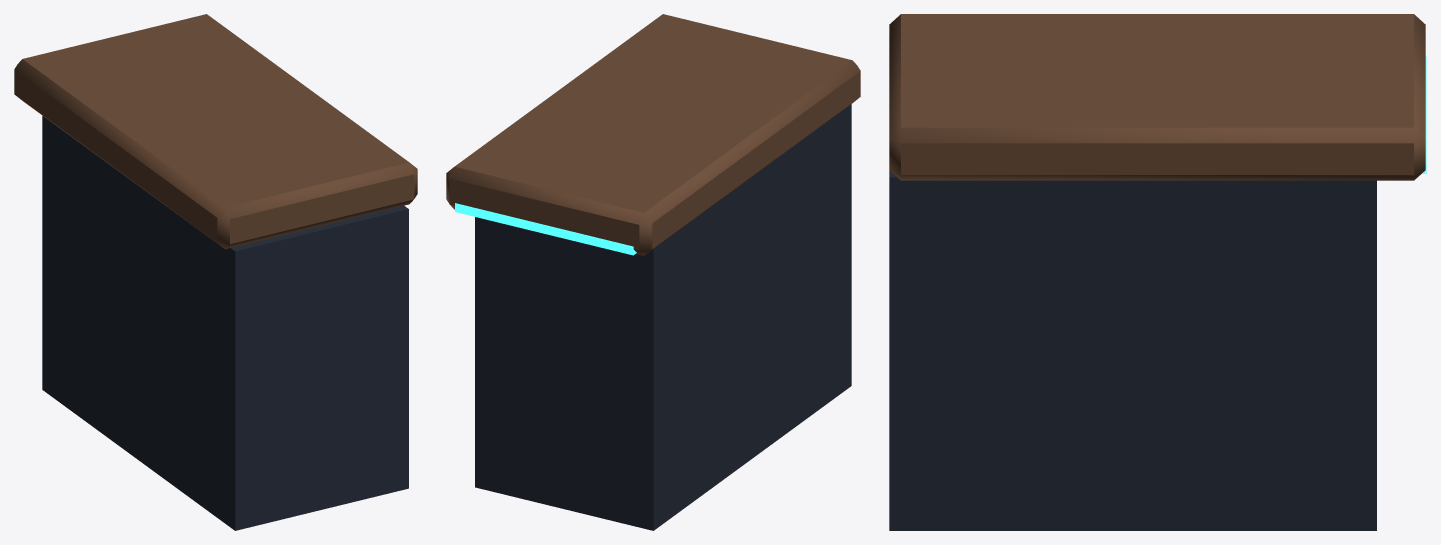
Rendered from perch_seat.glb.
The picture shows the model from 3 angles, left to right: view 1: azimuth 30°, elevation 25°; view 2: azimuth 150°, elevation 25°; view 3: azimuth 270°, elevation 25°; orthographic projection. The views are drawn at different scales.
Visible parts, largest first — view 1: body; view 2: body; view 3: body.
Part boxes in pixels (box(x1,y1,x2,y2)): body: box(14, 14, 417, 530); body: box(446, 14, 860, 530); body: box(889, 14, 1426, 530).
Bounding box in the file's own units: 0.3 × 0.46 × 0.551.
